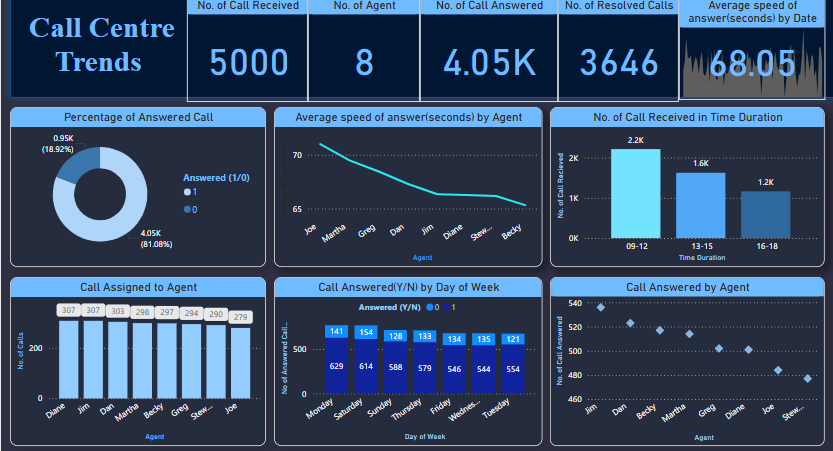

The dashboard page shown, as its layout file describes it:
{"tool":"powerbi","page":{"name":"Page 1","canvas":[1280,1000],"ordinal":0},"visuals":[{"type":"donutChart","title":"Percentage of Answered Call ","fields":{"Category":["Sheet1.Answered (Y/N)"],"Y":["Sheet1.Answered (Y/N)"]},"box":[13,190,371,232],"z":1000},{"type":"shape","box":[0,0,1280,190],"z":1500},{"type":"kpi","title":"Average speed of answer(seconds) by Date","fields":{"Indicator":["Sheet1.Speed of answer in seconds"],"TrendLine":["Sheet1.Date"]},"box":[982,20,212,150],"z":1750},{"type":"card","title":"No. of Call Answered","fields":{"Values":["Sheet1.Answered (Y/N)"]},"box":[607,18,200,152],"z":4000},{"type":"card","title":"No. of Call Received","fields":{"Values":["Sheet1.Call Id"]},"box":[269,18,176,152],"z":5000},{"type":"card","title":"No. of Agent","fields":{"Values":["Sheet1.Agent"]},"box":[445,18,162,152],"z":6000},{"type":"card","title":"No. of Resolved Calls","fields":{"Values":["Sheet1.Resolved"]},"box":[807,18,175,152],"z":7000},{"type":"textbox","box":[22.5,30,247.5,160],"z":8000},{"type":"scatterChart","title":"Call Answered by Agent","fields":{"X":["Sheet1.Agent"],"Y":["Sheet1.Answered (Y/N)"]},"box":[796,436,398,245],"z":9000},{"type":"lineChart","title":"Average speed of answer(seconds) by Agent","fields":{"Y":["Sheet1.Speed of answer in seconds"],"Category":["Sheet1.Agent"]},"box":[396,190,389,232],"z":10000},{"type":"lineStackedColumnComboChart","title":"Call Assigned to Agent","fields":{"Category":["Sheet1.Agent"],"Y":["Sheet1.Time"]},"box":[13,436,371,245],"z":12000},{"type":"columnChart","title":"No. of Call Received in Time Duration","fields":{"Y":["Sheet1.T"],"Category":["Sheet1.T"]},"box":[796,190,398,232],"z":14000},{"type":"columnChart","title":"Call Answered(Y/N) by Day of Week","fields":{"Y":["Sheet1.Answered (Y/N)"],"Series":["Sheet1.Answered (Y/N)"],"Category":["Sheet1.Day of Week"]},"box":[396,436,389,245],"z":15000}]}

Visuals, with their boxes on the page's 1280x1000 design canvas (x1, y1, x2, y2). These are canvas units, not pixel positions in the 833x451 screenshot, which may show the page scaled, cropped or inside an application window:
"Percentage of Answered Call " donutChart: [left=13, top=190, right=384, bottom=422]
shape: [left=0, top=0, right=1280, bottom=190]
"Average speed of answer(seconds) by Date" kpi: [left=982, top=20, right=1194, bottom=170]
"No. of Call Answered" card: [left=607, top=18, right=807, bottom=170]
"No. of Call Received" card: [left=269, top=18, right=445, bottom=170]
"No. of Agent" card: [left=445, top=18, right=607, bottom=170]
"No. of Resolved Calls" card: [left=807, top=18, right=982, bottom=170]
textbox: [left=22, top=30, right=270, bottom=190]
"Call Answered by Agent" scatterChart: [left=796, top=436, right=1194, bottom=681]
"Average speed of answer(seconds) by Agent" lineChart: [left=396, top=190, right=785, bottom=422]
"Call Assigned to Agent" lineStackedColumnComboChart: [left=13, top=436, right=384, bottom=681]
"No. of Call Received in Time Duration" columnChart: [left=796, top=190, right=1194, bottom=422]
"Call Answered(Y/N) by Day of Week" columnChart: [left=396, top=436, right=785, bottom=681]
